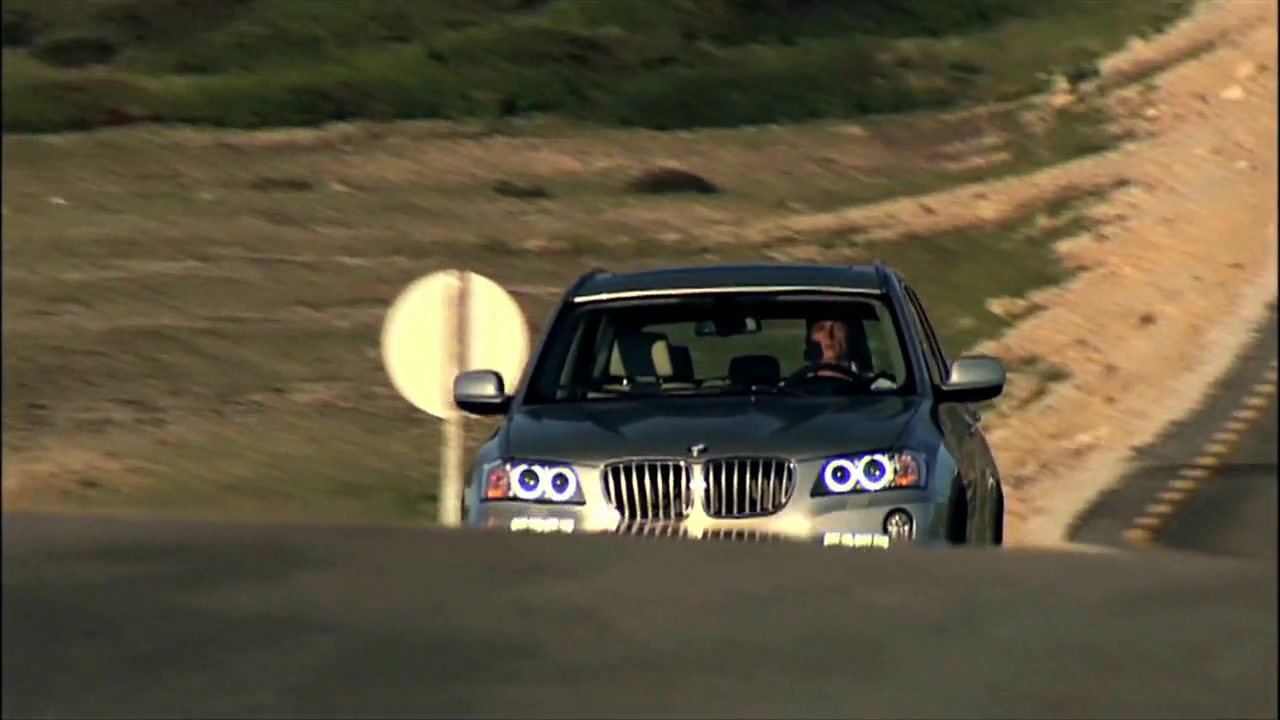car: (452, 257, 1013, 558)
